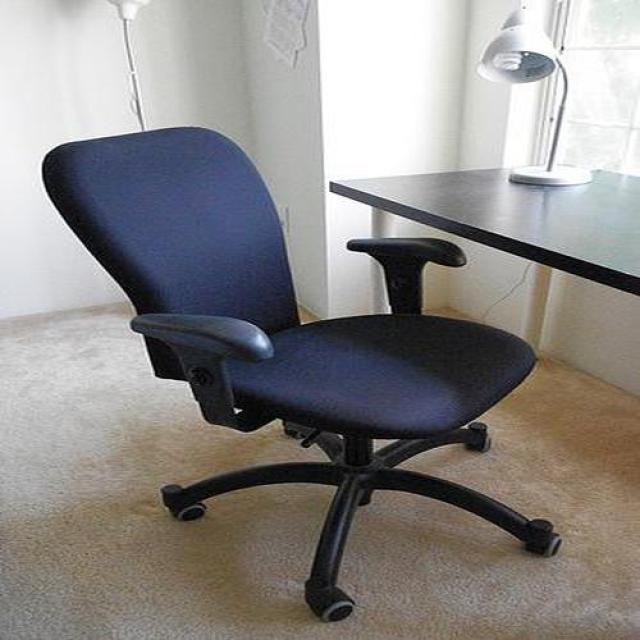swivelchair: (42, 127, 563, 625)
